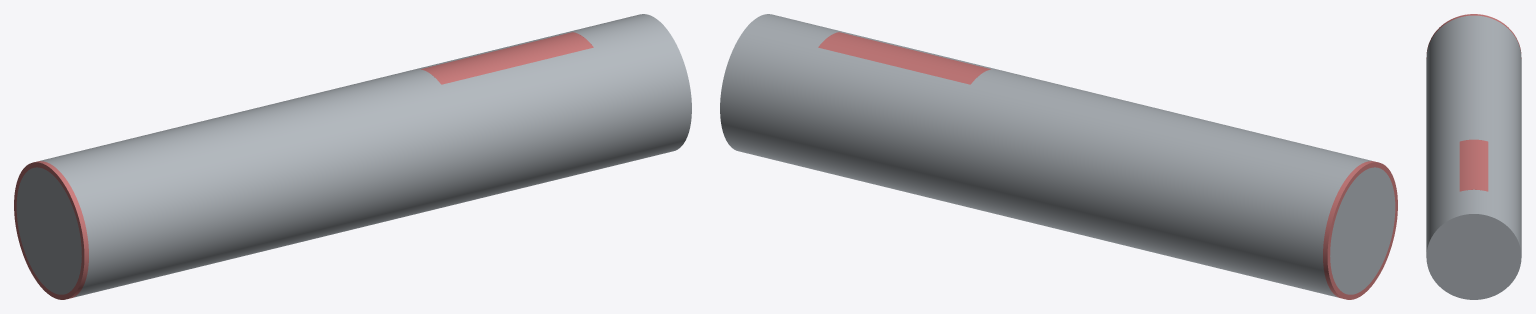
The model's file is step_13.glb.
The picture shows the model from 3 angles, left to right: view 1: azimuth 30°, elevation 25°; view 2: azimuth 150°, elevation 25°; view 3: azimuth 270°, elevation 25°; orthographic projection. The views are drawn at different scales.
Visible parts, largest first — view 1: part__shaft A, removed__shaft A; view 2: part__shaft A, removed__shaft A; view 3: part__shaft A, removed__shaft A.
Part boxes in pixels (<box>): part__shaft A: <box>16,14,691,297</box>; removed__shaft A: <box>14,32,593,299</box>; part__shaft A: <box>720,14,1395,297</box>; removed__shaft A: <box>818,32,1397,299</box>; part__shaft A: <box>1426,15,1521,299</box>; removed__shaft A: <box>1426,14,1521,191</box>.
Size of the model in its own units: 199 by 39.98 by 39.99.
